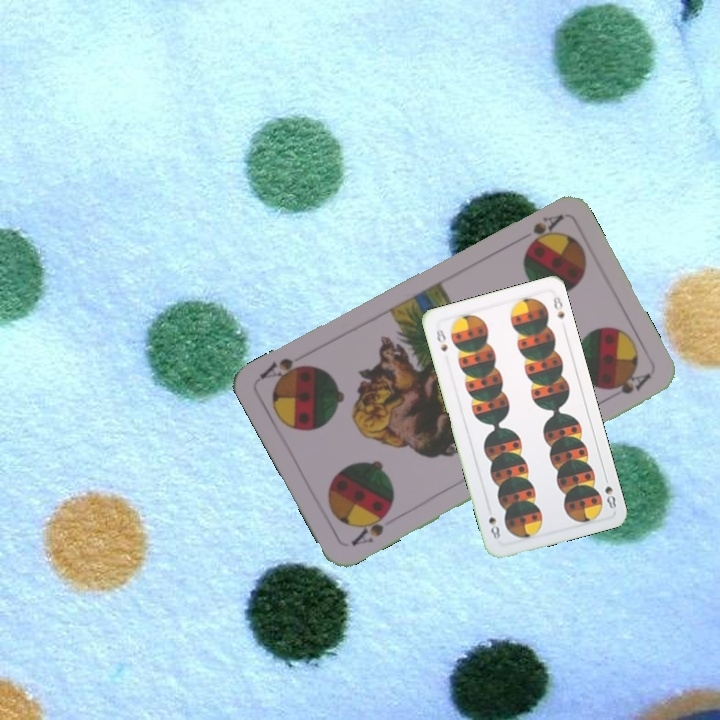S8: (600, 471, 619, 511), (432, 326, 450, 355)
SA: (347, 505, 394, 549), (522, 210, 566, 249)
